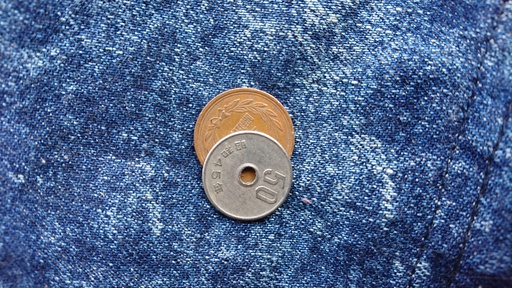10yen: (194, 87, 294, 167)
50yen: (202, 131, 292, 222)
